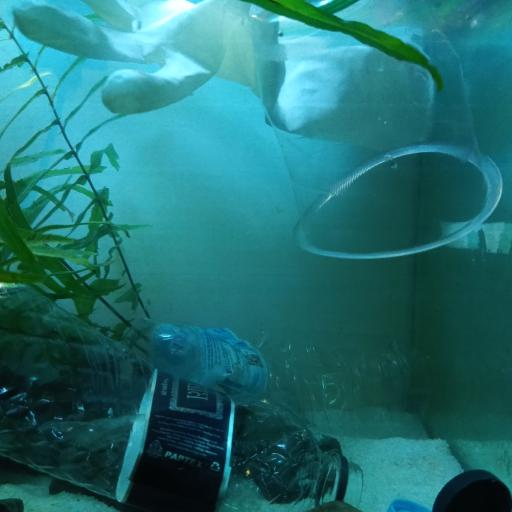bottle_cap: (431, 468, 512, 512), (386, 496, 434, 512)
glove: (18, 0, 442, 139)
plastic_bottle: (2, 287, 364, 512), (10, 288, 330, 416)
plastic_cup: (242, 1, 501, 257)
